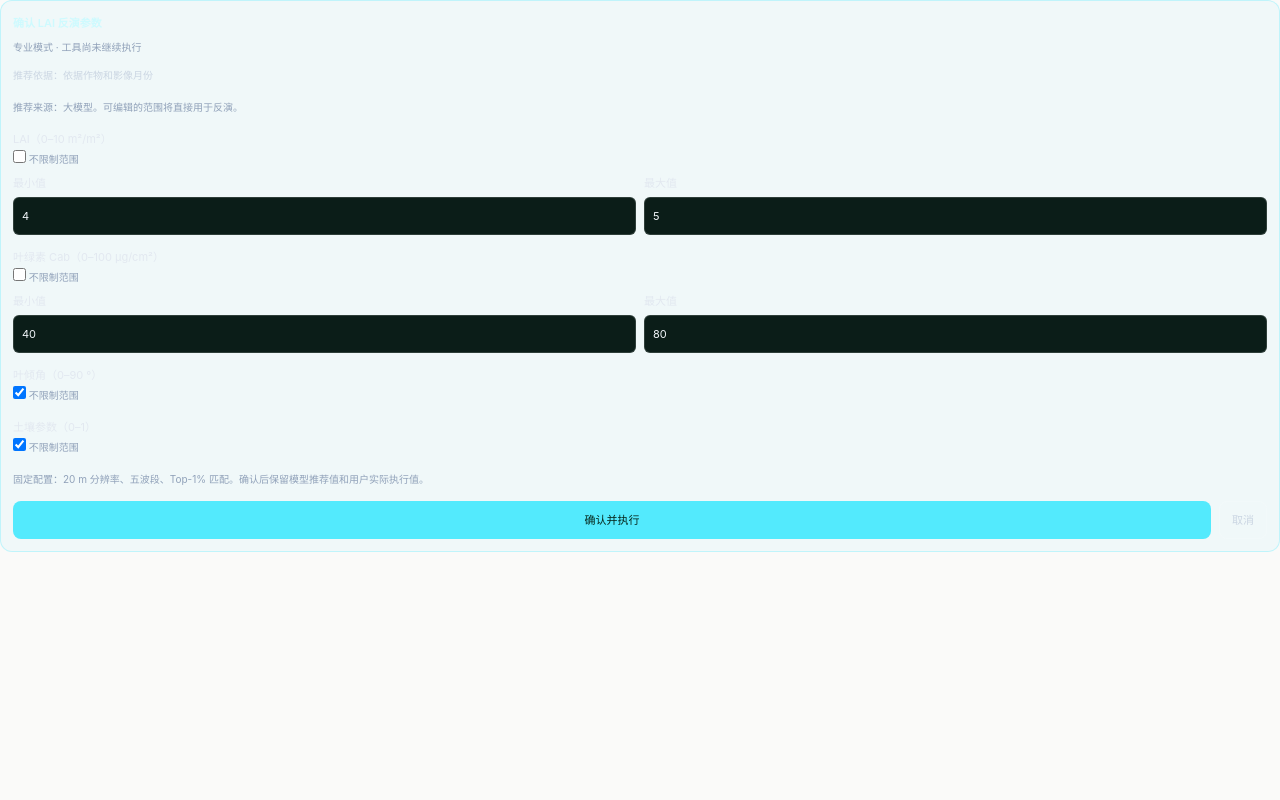
Test case: retains edited values after a server rejection so they can be corrected
Replace the text in the number field named "LAI最大值" with "10" at (956, 216), box [644,197,1267,235]
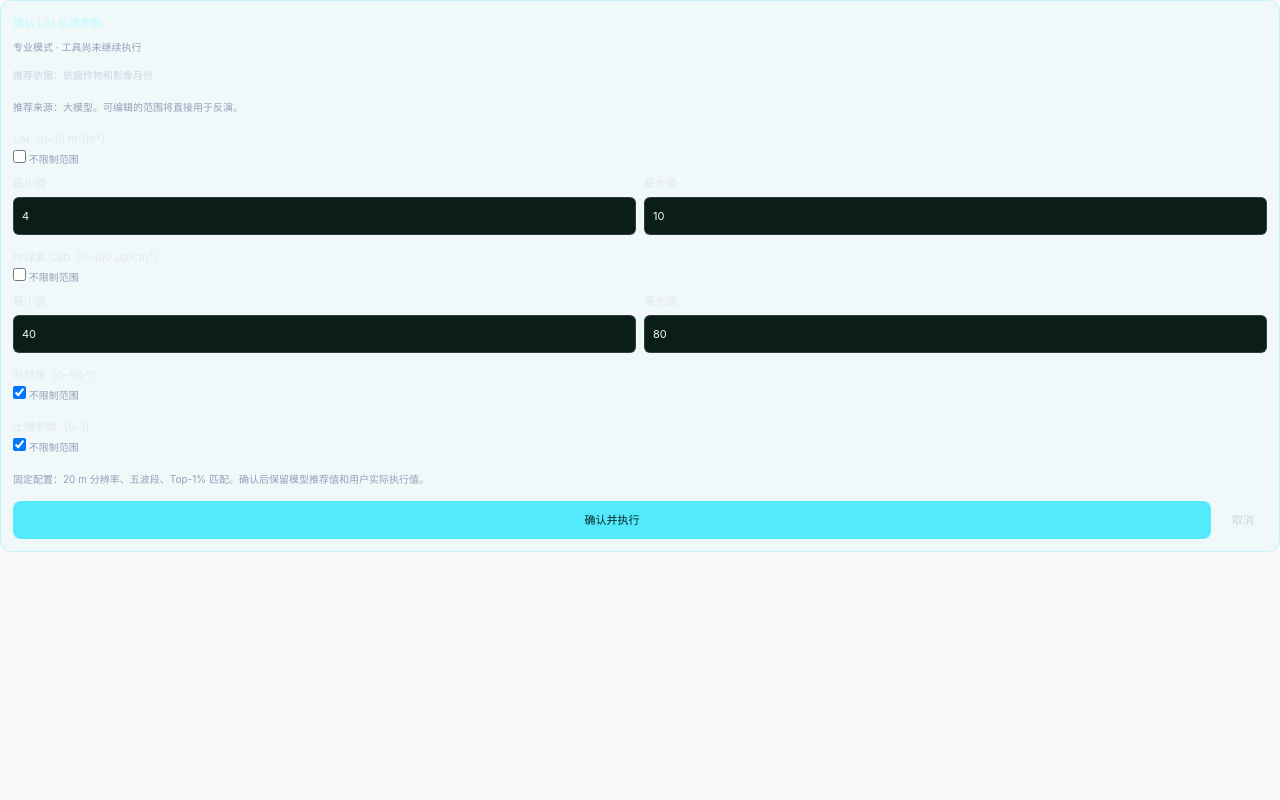
Click the button "确认并执行".
click(612, 520)  # box [13,501,1211,539]
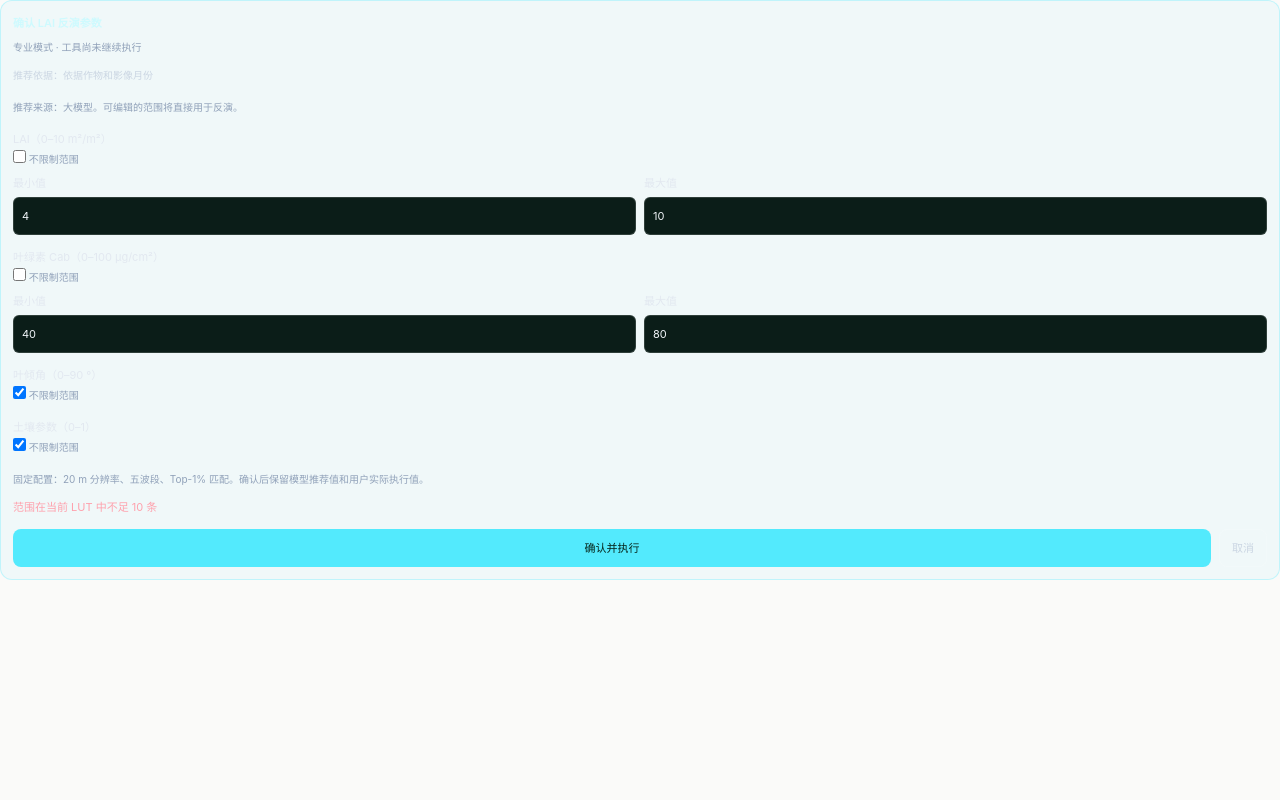
Result: the message shows "不足 10 条" at [13,500,157,514]
Replace the text in the number field named "LAI最小值" with "11" at (324, 216), box [13,197,636,235]
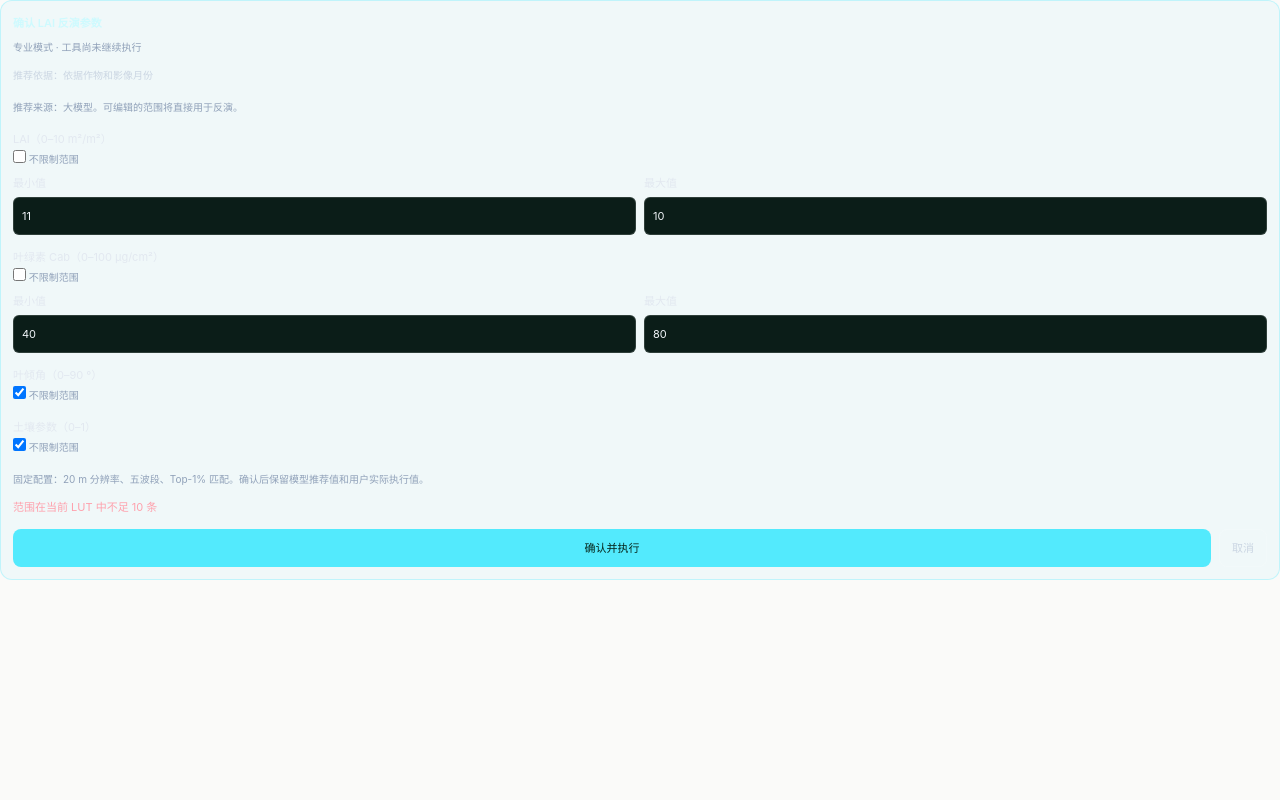
Click the button "确认并执行".
click(612, 548)  # box [13,529,1211,567]
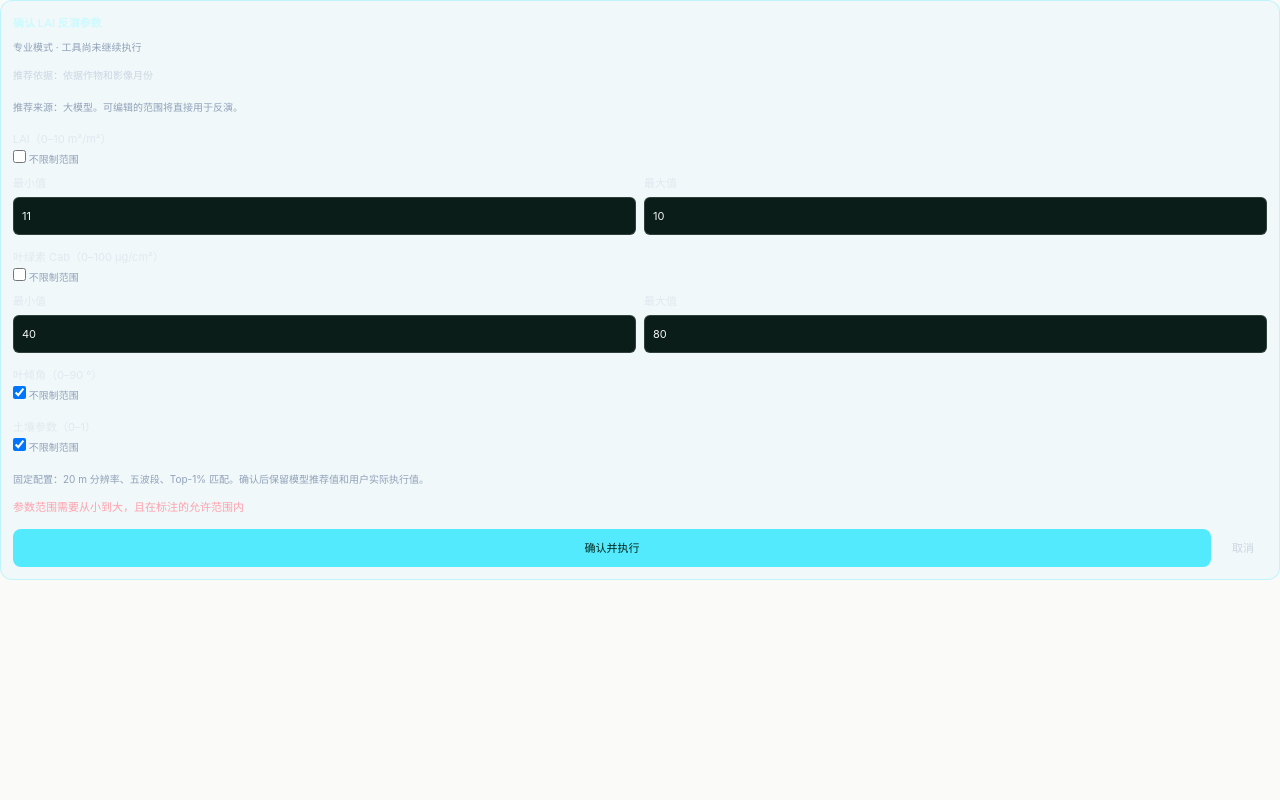
Result: the message shows "从小到大" at [13,500,244,514]
